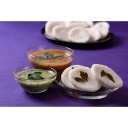idly: (62, 65, 96, 91), (92, 63, 124, 89), (68, 26, 91, 42), (45, 20, 64, 38), (95, 22, 110, 37)
